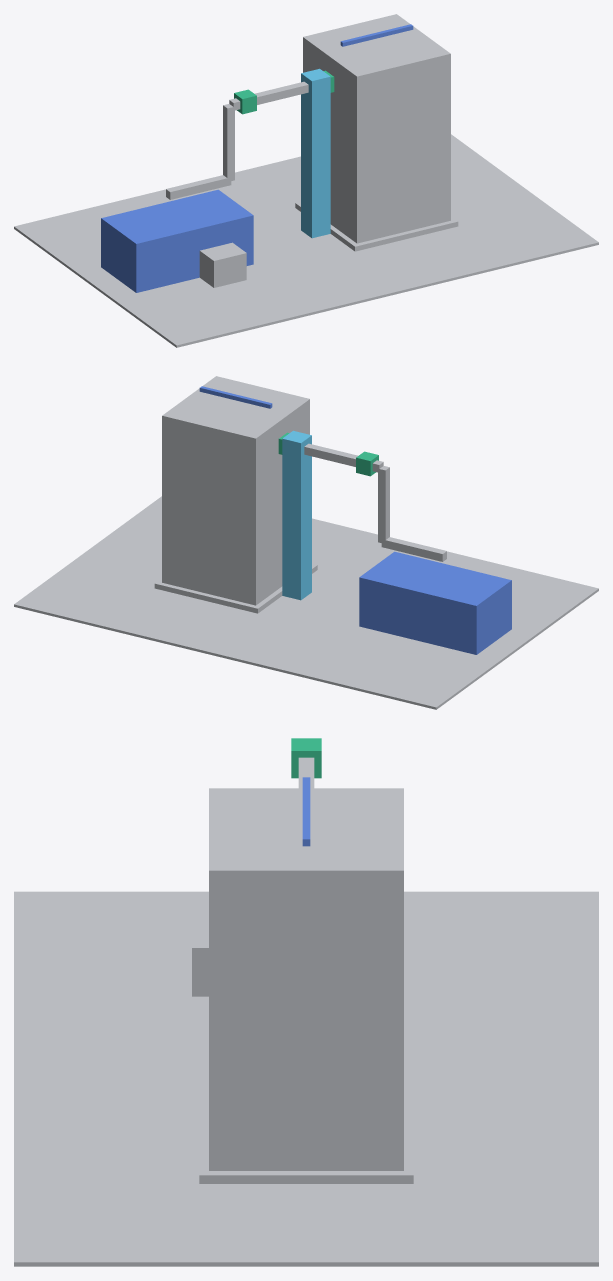
Rendered from demo.glb.
3 views of the same model, one above another, from view 1: azimuth 30°, elevation 25°; view 2: azimuth 150°, elevation 25°; view 3: azimuth 270°, elevation 25° (orthographic). The views are drawn at different scales.
Visible parts, largest first — view 1: Demo_Ground, Demo_Tank, Demo_Mixer, Demo_Tank_Liquid, Demo_Pump, Demo_Tank_Floor, Demo_Pipe_2, Demo_Pipe_3, Demo_Pipe_1, Demo_Fan; view 2: Demo_Ground, Demo_Tank, Demo_Mixer, Demo_Tank_Liquid, Demo_Tank_Floor, Demo_Pipe_2, Demo_Pipe_3, Demo_Pipe_1, Demo_Fan; view 3: Demo_Ground, Demo_Tank, Demo_Tank_Floor, Demo_Pump, Demo_Valve_B.
Boxes of the visible parts, <box> form: Demo_Ground: <box>14,134,598,347</box>; Demo_Tank: <box>303,14,450,243</box>; Demo_Mixer: <box>101,189,253,292</box>; Demo_Tank_Liquid: <box>301,68,330,238</box>; Demo_Pump: <box>199,242,246,287</box>; Demo_Tank_Floor: <box>295,202,458,251</box>; Demo_Pipe_2: <box>223,104,234,181</box>; Demo_Pipe_3: <box>166,175,231,199</box>; Demo_Pipe_1: <box>229,81,308,110</box>; Demo_Fan: <box>340,24,413,46</box>; Demo_Ground: <box>14,496,598,709</box>; Demo_Tank: <box>162,376,309,605</box>; Demo_Mixer: <box>359,551,511,654</box>; Demo_Tank_Liquid: <box>282,430,311,600</box>; Demo_Tank_Floor: <box>154,564,317,613</box>; Demo_Pipe_2: <box>378,466,389,542</box>; Demo_Pipe_3: <box>381,537,446,561</box>; Demo_Pipe_1: <box>304,443,383,472</box>; Demo_Fan: <box>199,386,272,408</box>; Demo_Ground: <box>14,891,598,1266</box>; Demo_Tank: <box>209,788,403,1170</box>; Demo_Tank_Floor: <box>199,1084,413,1183</box>; Demo_Pump: <box>192,919,208,996</box>; Demo_Valve_B: <box>291,738,321,778</box>.
Bounding box in the file's own units: 18 × 7.58 × 12.
